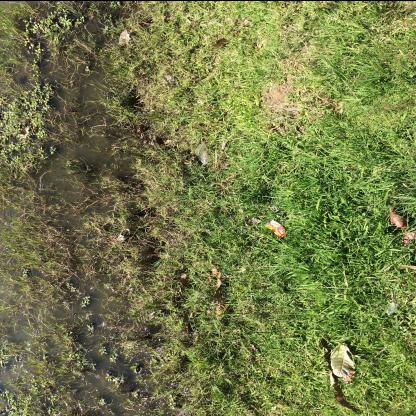plastik: (265, 219, 286, 236)
